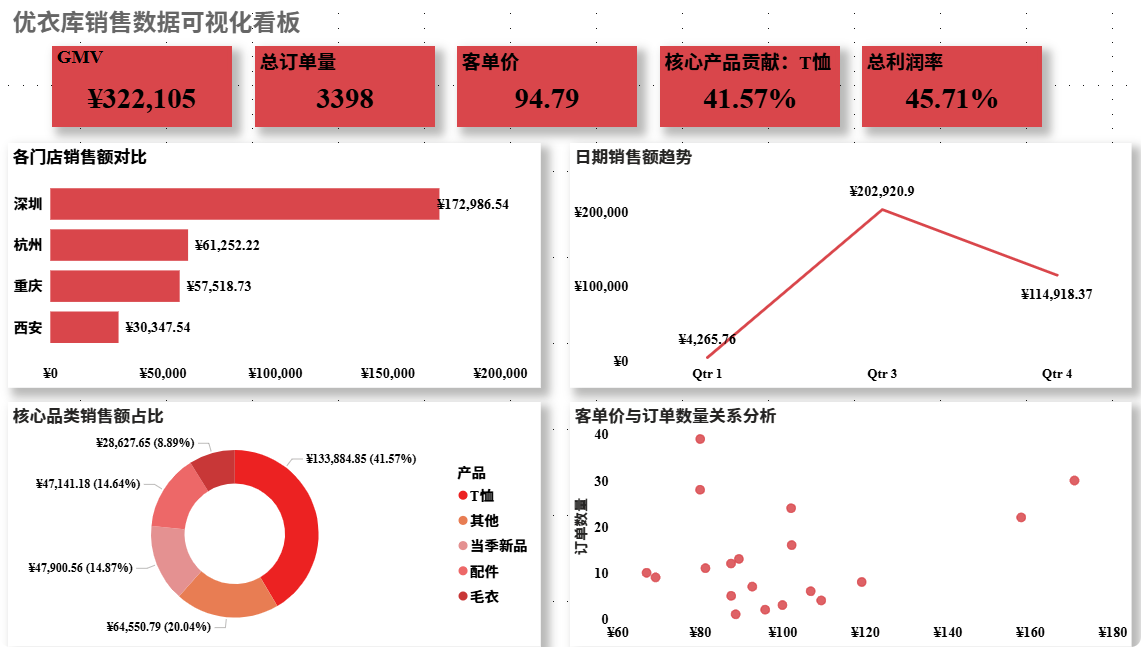

The dashboard page shown, as its layout file describes it:
{"tool":"powerbi","page":{"name":"基于多维度分析的零售业务全景可视化报告","canvas":[1280,720],"ordinal":0},"visuals":[{"type":"card","title":"GMV","fields":{"Values":["Sum(Sheet1.销售金额)"]},"box":[64.7,52.2,200,90],"z":0},{"type":"card","title":"总订单量","fields":{"Values":["Sum(Sheet1.订单数量)"]},"box":[289.7,52.2,200,90],"z":1000},{"type":"card","title":"客单价","fields":{"Values":["Sheet1.客单价 ￥"]},"box":[514.7,52.2,200,90],"z":2000},{"type":"card","title":"核心产品贡献：T恤","fields":{"Values":["Sheet1.核心产品贡献：T恤"]},"box":[739.7,52.2,200,90],"z":3000},{"type":"card","title":"总利润率","fields":{"Values":["Sheet1.总利润率"]},"box":[964.7,52.2,200,90],"z":4000},{"type":"clusteredBarChart","title":"各门店销售额对比","fields":{"Category":["Sheet1.门店所在城市"],"Y":["Sum(Sheet1.销售金额)"]},"box":[16,160,592,272],"z":5000},{"type":"donutChart","title":"核心品类销售额占比","fields":{"Category":["Sheet1.自定义"],"Y":["Sum(Sheet1.销售金额)"]},"box":[16,448,592,272],"z":6000},{"type":"lineChart","title":"日期销售额趋势","fields":{"Category":["Sheet1.订单日期.变体.日期层次结构.季度","Sheet1.订单日期.变体.日期层次结构.月份","Sheet1.订单日期.变体.日期层次结构.日"],"Y":["Sum(Sheet1.销售金额)"]},"box":[640,160,624,272],"z":7000},{"type":"scatterChart","title":"客单价与订单数量关系分析","fields":{"X":["Sheet1.客单价 ￥"],"Y":["Sheet1.订单数量"]},"box":[640,448,624,272],"z":8000},{"type":"textbox","box":[16,0,416,64],"z":9000}]}

Visuals, with their boxes in screenshot pixels (x1, y1, x2, y2), scaled from the page's 1280x720 canvas onto the 1141x647 screenshot:
"GMV" card: region(58, 47, 236, 128)
"总订单量" card: region(258, 47, 437, 128)
"客单价" card: region(459, 47, 637, 128)
"核心产品贡献：T恤" card: region(659, 47, 838, 128)
"总利润率" card: region(860, 47, 1038, 128)
"各门店销售额对比" clusteredBarChart: region(14, 144, 542, 388)
"核心品类销售额占比" donutChart: region(14, 403, 542, 646)
"日期销售额趋势" lineChart: region(570, 144, 1127, 388)
"客单价与订单数量关系分析" scatterChart: region(570, 403, 1127, 646)
textbox: region(14, 0, 385, 58)
